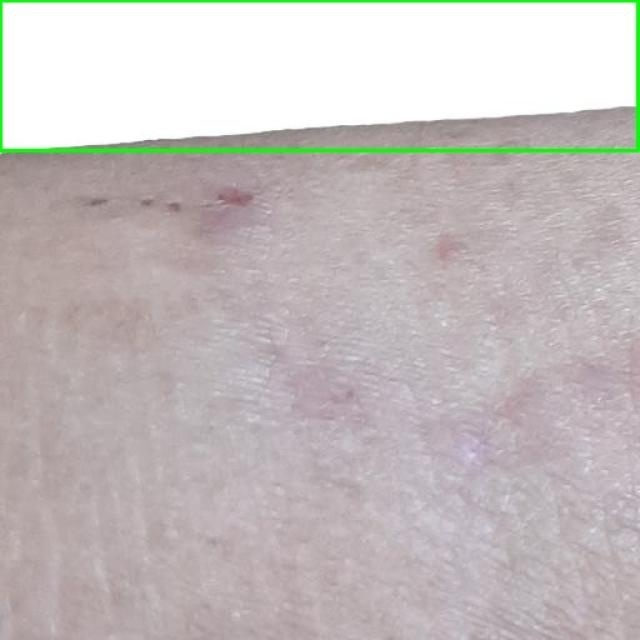Tinea Corporis: (0, 0, 639, 151)
